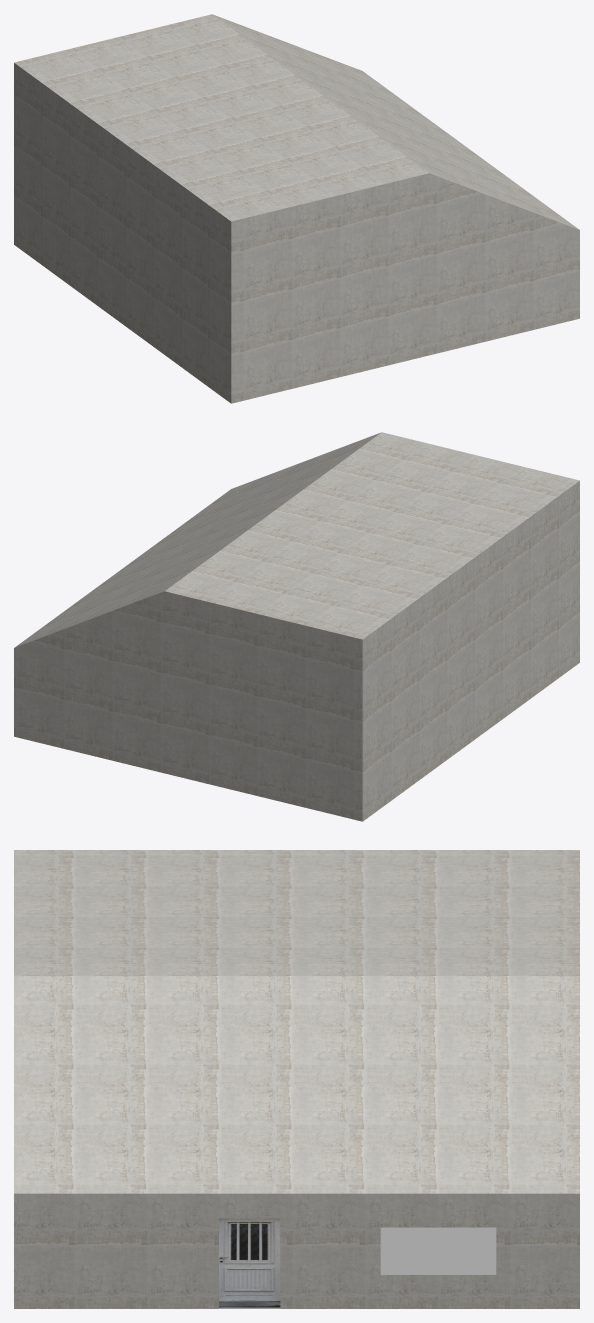
The model's file is Menu House.fbx.
The picture shows the model from 3 angles, top to bottom: view 1: azimuth 30°, elevation 25°; view 2: azimuth 150°, elevation 25°; view 3: azimuth 270°, elevation 25°; orthographic projection. The views are drawn at different scales.
Visible parts, largest first — view 1: Cube; view 2: Cube; view 3: Cube.
Boxes of the visible parts, x1,y1,x2,y2 form: Cube: [14, 14, 579, 403]; Cube: [14, 432, 579, 821]; Cube: [14, 850, 579, 1308].
Size of the model in its own units: 1856 by 925 by 2000.
